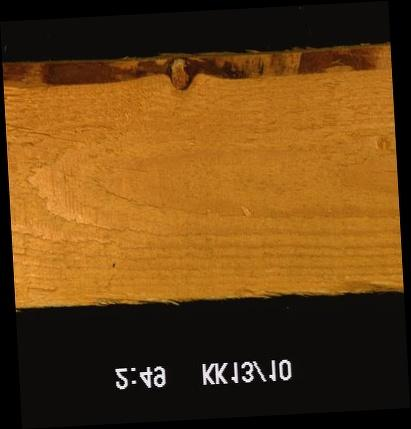split: (6, 119, 92, 151)
wave: (3, 53, 391, 90), (314, 277, 402, 293)
